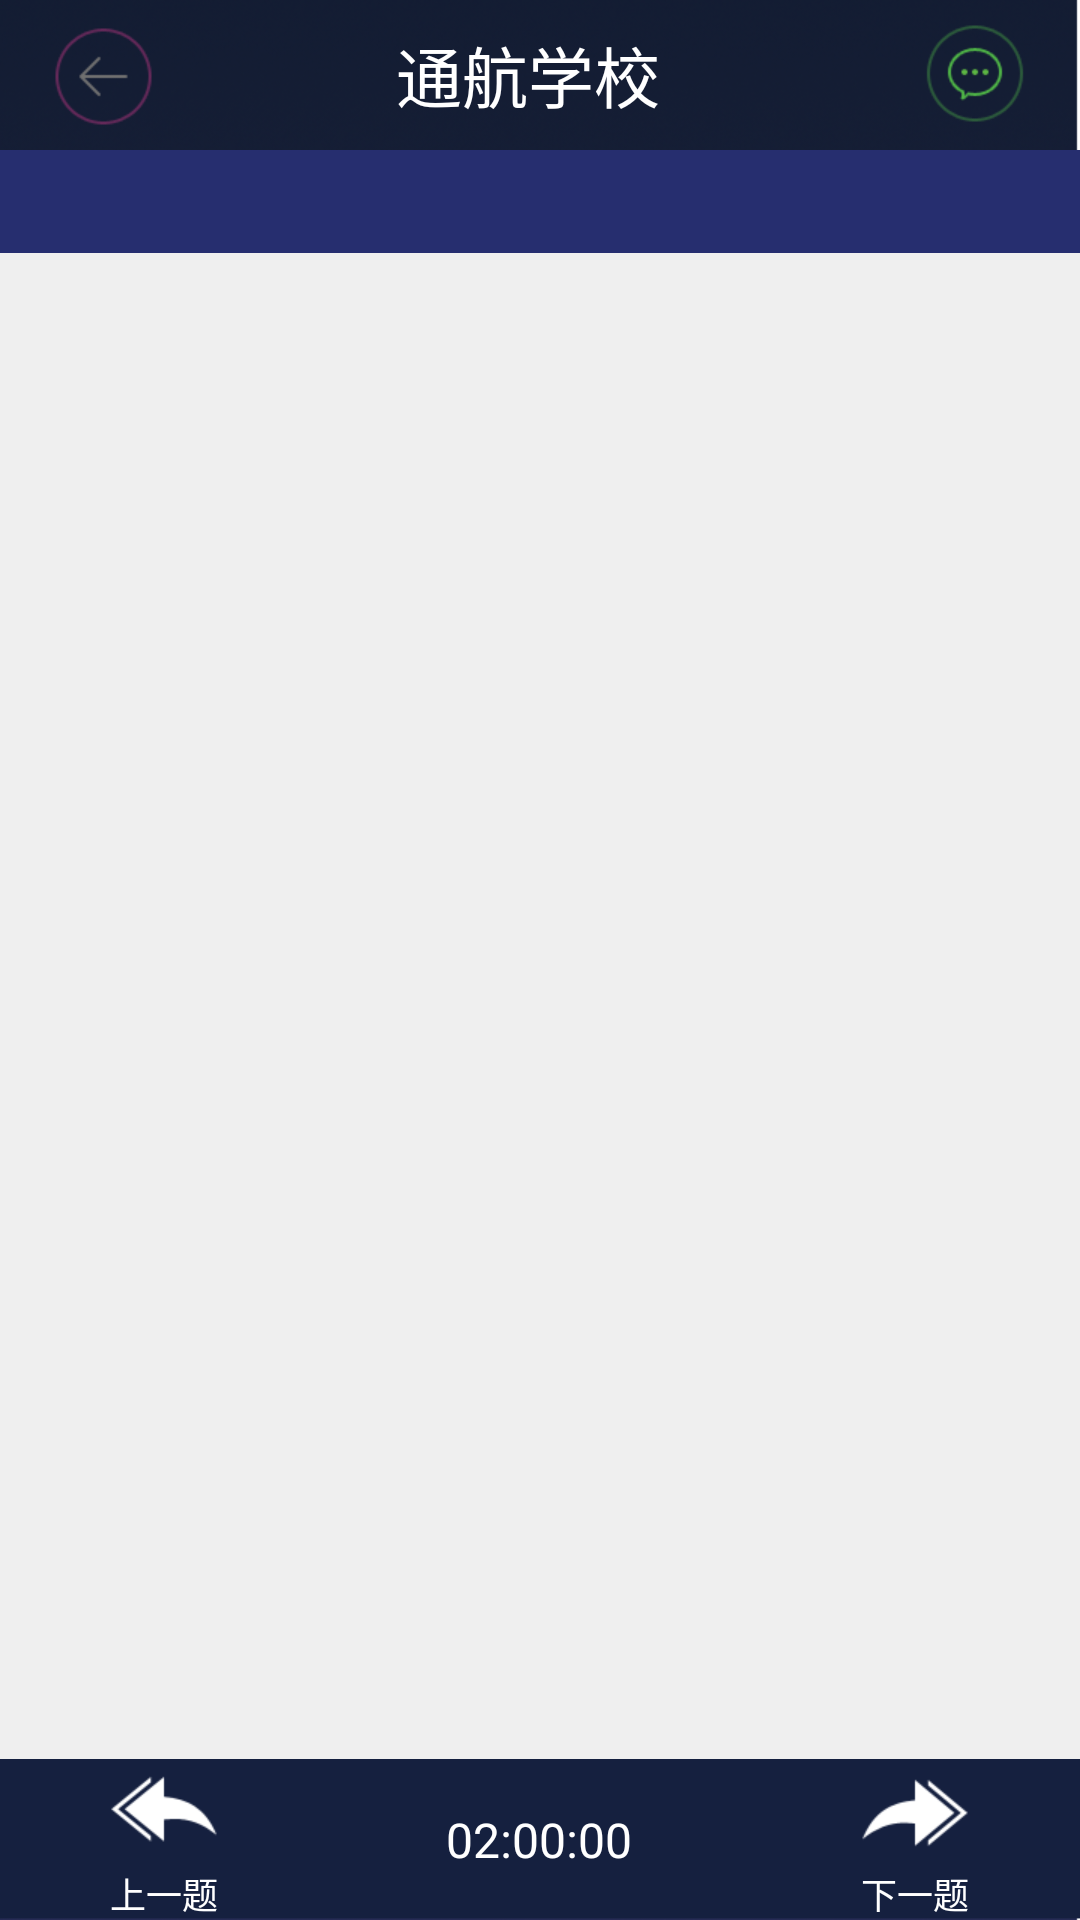

Icon click points for this 1080 × 1920 phone screenshot, format [x,y]:
back: [103,76]
